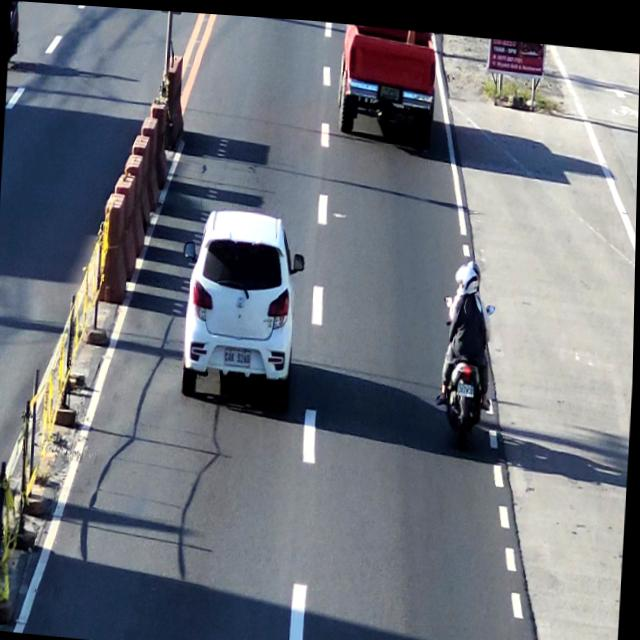Car: (178, 201, 307, 404), (334, 18, 437, 145)
License-Plate: (221, 340, 256, 366), (379, 78, 401, 99), (457, 377, 477, 393)
Motorcycle: (441, 252, 500, 449)
